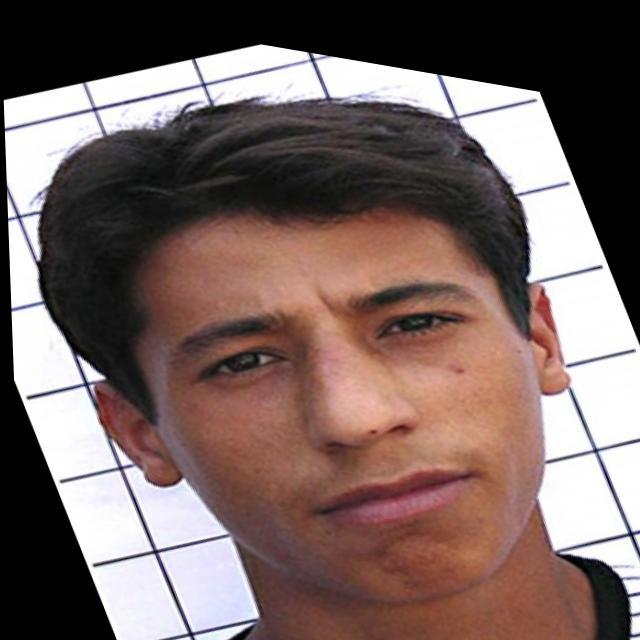Nonhelmet: (38, 73, 572, 617)
